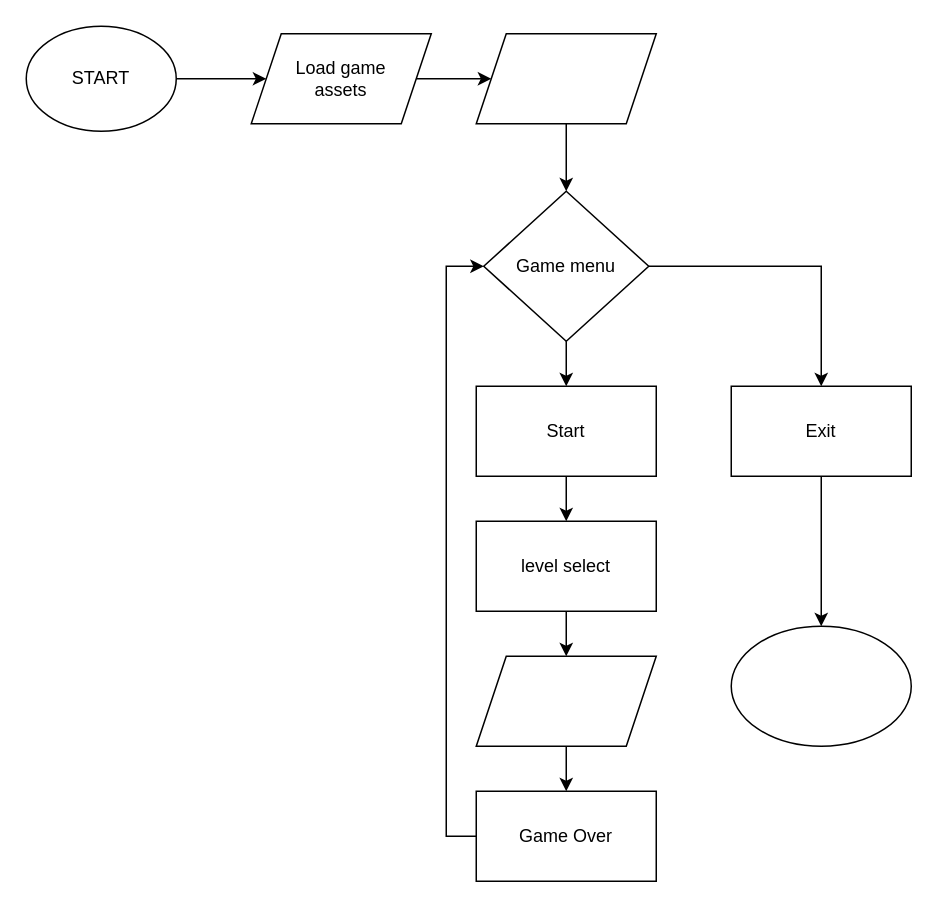
Some shapes in this 938 by 908 pixel diagram are drawn without their labels. The shapes that lost their labels are listed below. From the top down, each one's centre as x and y in pixels, then its label:
At point (565, 78): "Process data".
At point (565, 700): "Game play".
At point (820, 685): "Stop".
